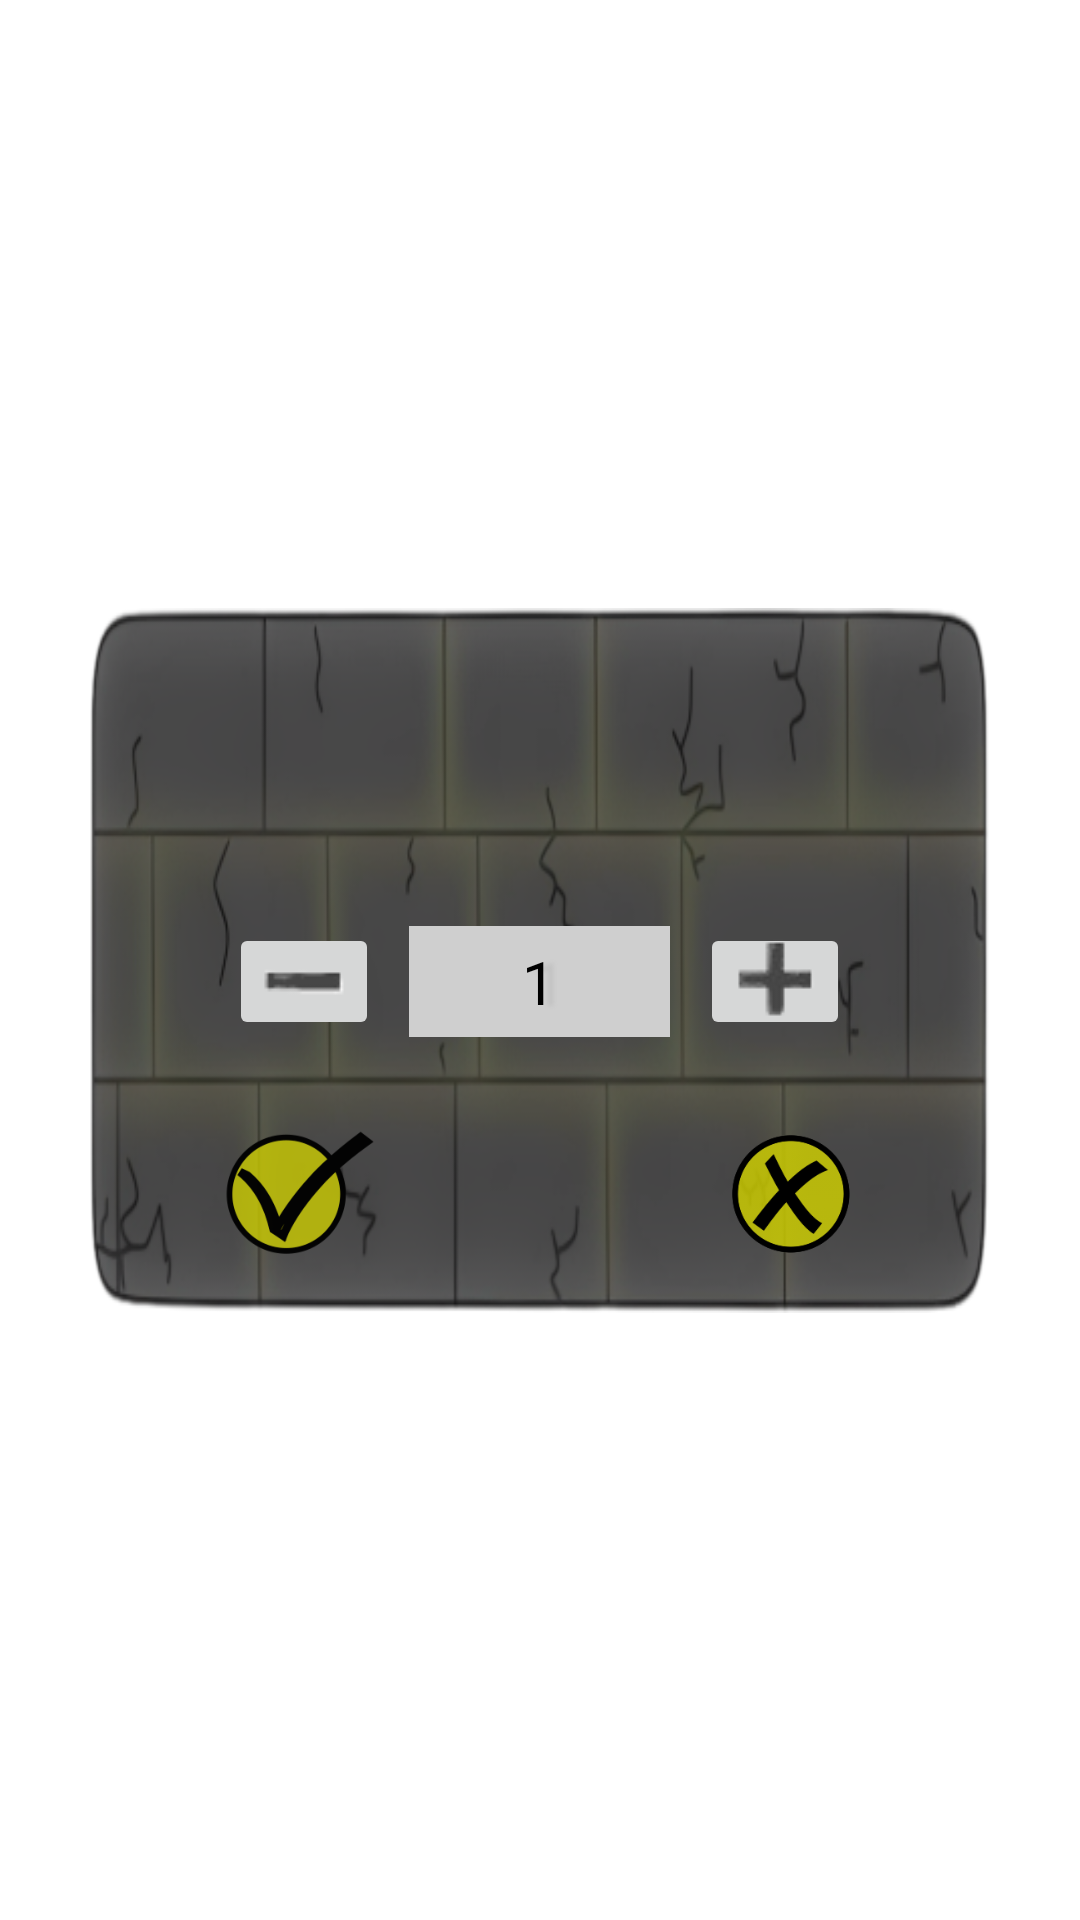

Screen size 1080px x 1920px. Icon name, then its center in pixels as (x,y):
add: (781,990)
reduce: (304,981)
yes: (289,1191)
